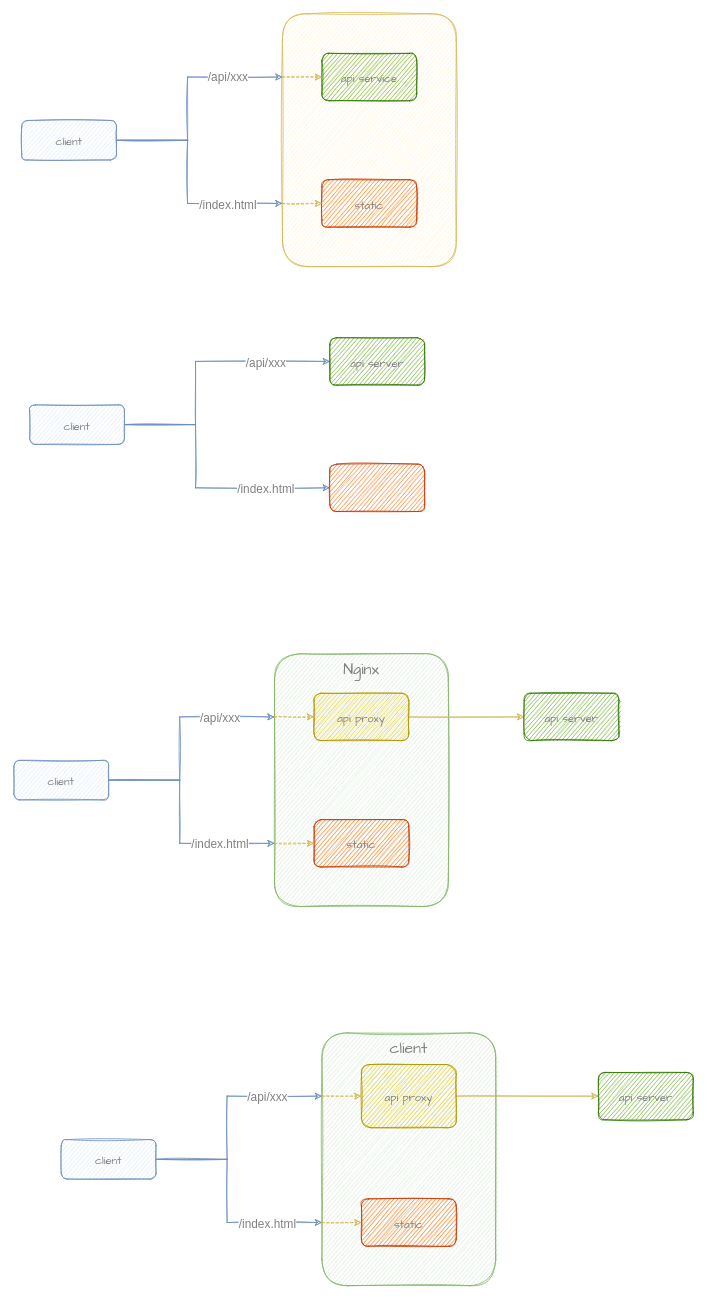
The diagram is 707 pixels wide and 1300 high, and some of its shapes have lost their labels. Each missing label, with the box of its shape:
static server: (329, 463, 425, 512)
Web Server: (282, 13, 456, 267)
